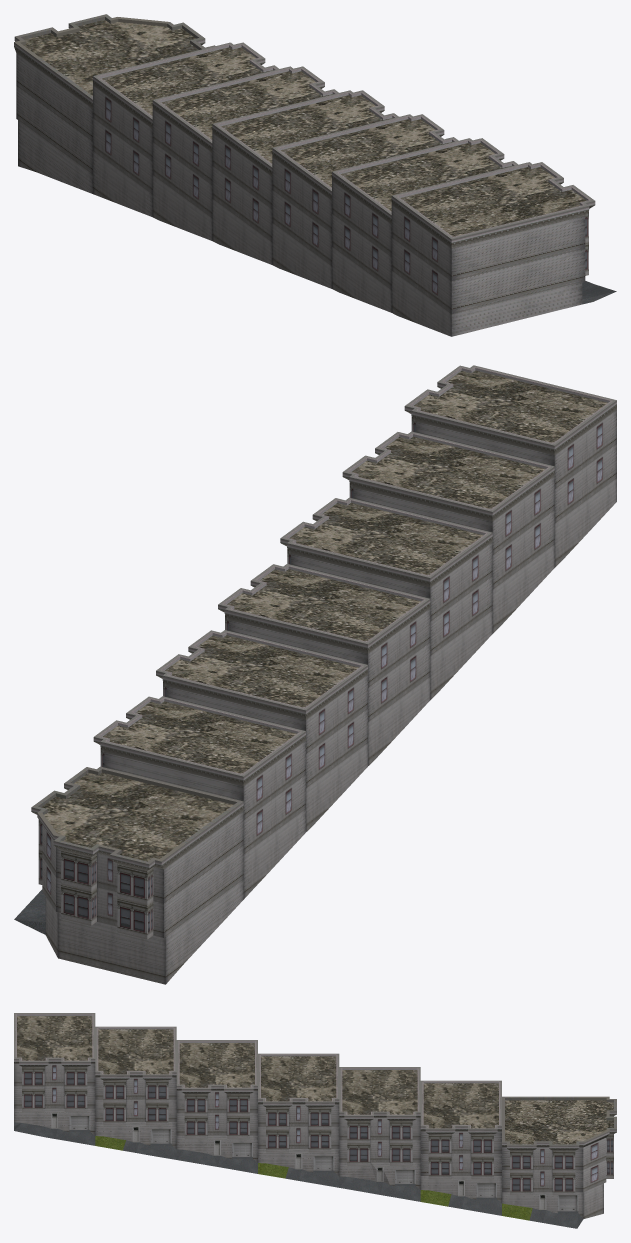
The model's file is blokmod2_sfw01.obj.
3 renders of one model, top to bottom at view 1: azimuth 30°, elevation 25°; view 2: azimuth 150°, elevation 25°; view 3: azimuth 270°, elevation 25°, orthographic. The views are drawn at different scales.
Parts seen in each view (by area): view 1: blokmod2_sfw01; view 2: blokmod2_sfw01; view 3: blokmod2_sfw01.
Boxes of the visible parts, x1,y1,x2,y2 form: blokmod2_sfw01: [14, 14, 616, 336]; blokmod2_sfw01: [14, 365, 616, 984]; blokmod2_sfw01: [14, 1013, 616, 1228].
Bounding box in the file's own units: 29.31 × 41.33 × 136.
10 materials, 10 textured.
